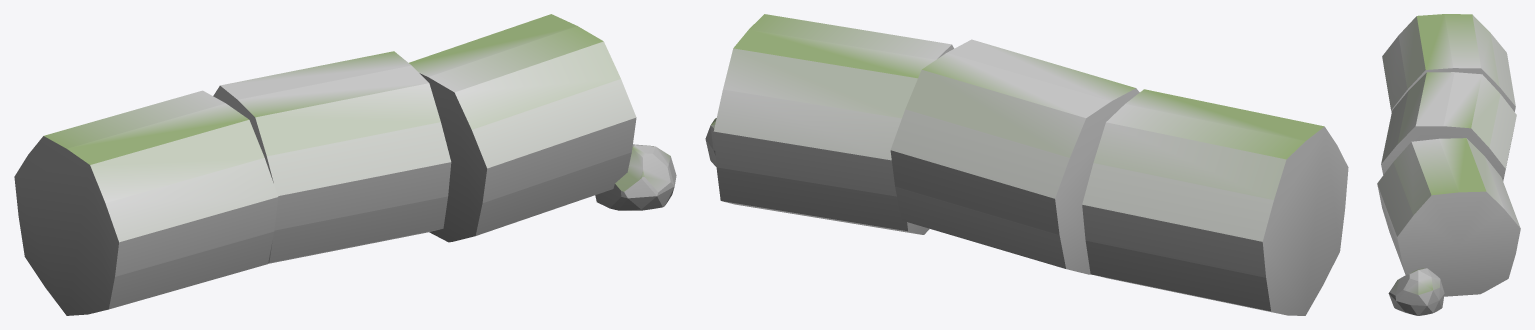
File: column_fallen.glb
3 renders of one model, left to right at view 1: azimuth 30°, elevation 25°; view 2: azimuth 150°, elevation 25°; view 3: azimuth 270°, elevation 25°, orthographic. The views are drawn at different scales.
Visible parts, largest first — view 1: column_fallen; view 2: column_fallen; view 3: column_fallen.
Part boxes in pixels (x1,y1,x2,y2): column_fallen: (14, 14, 676, 315); column_fallen: (705, 14, 1348, 315); column_fallen: (1377, 14, 1520, 315).
Size of the model in its own units: 2.99 by 0.8064 by 0.9403.
